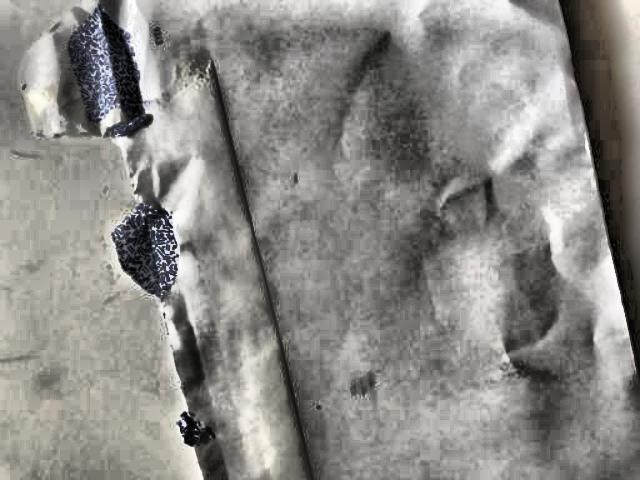Paper: (26, 0, 640, 480)
